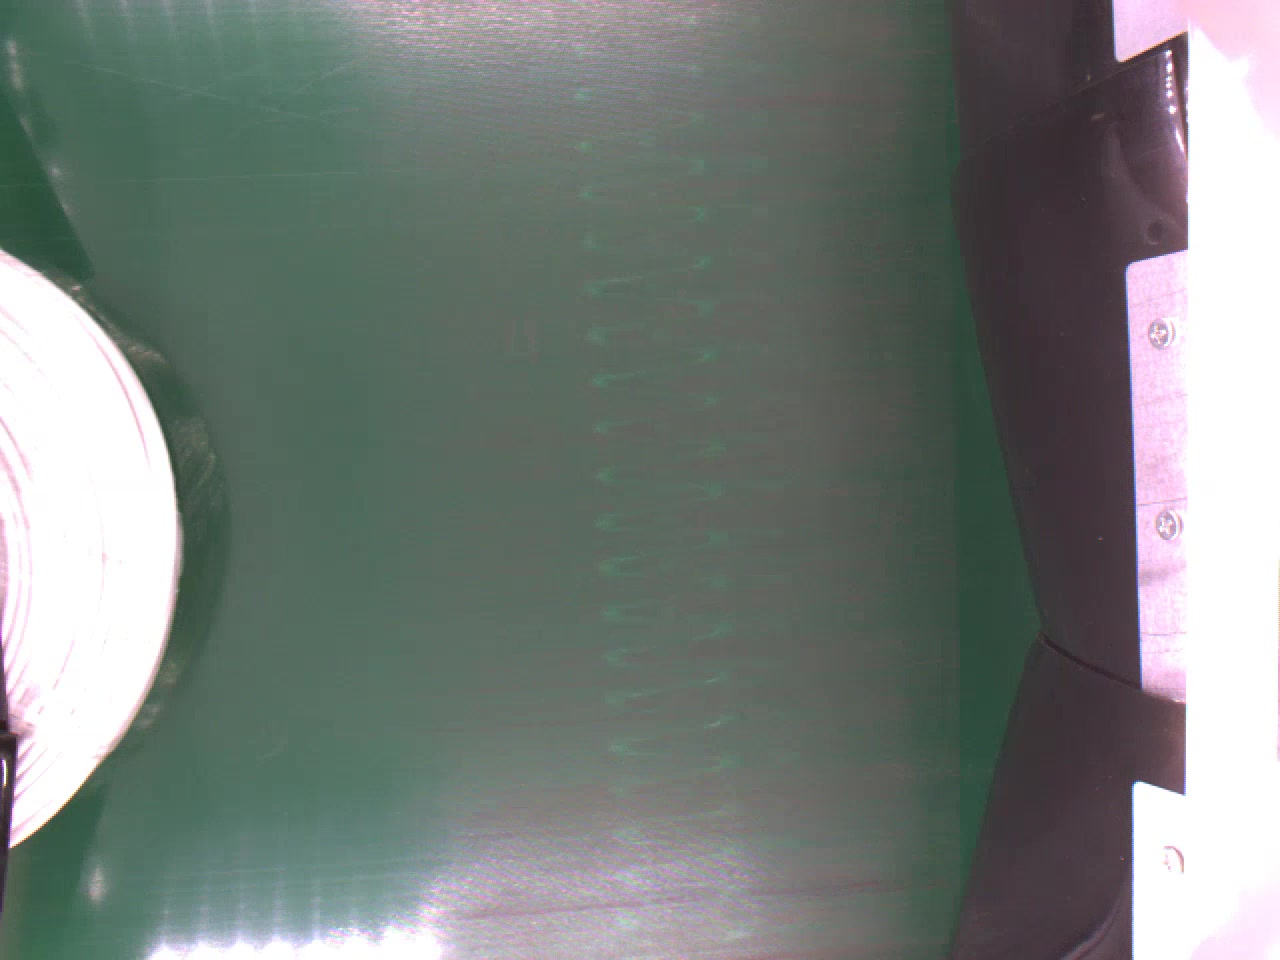white: (0, 242, 188, 859)
